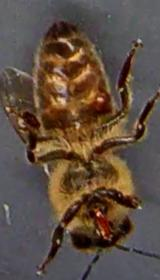varroa_mite: (82, 82, 115, 116)
